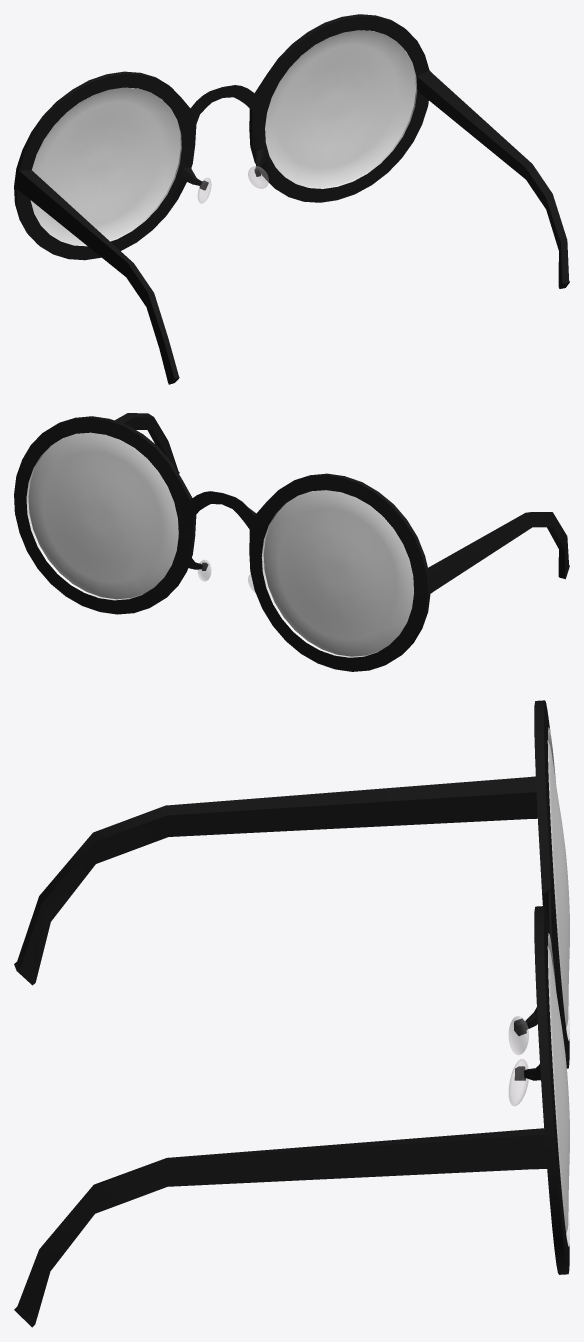
File: glasses.glb
The picture shows the model from 3 angles, top to bottom: view 1: azimuth 30°, elevation 25°; view 2: azimuth 150°, elevation 25°; view 3: azimuth 270°, elevation 25°; orthographic projection. The views are drawn at different scales.
Visible parts, largest first — view 1: Circle.001; view 2: Circle.001; view 3: Circle.001.
Part boxes in pixels (<box>): Circle.001: <box>14,14,569,384</box>; Circle.001: <box>14,413,569,671</box>; Circle.001: <box>14,700,569,1327</box>.
Size of the model in its own units: 3.57 by 1.54 by 2.32.
3 materials, 1 textured.
